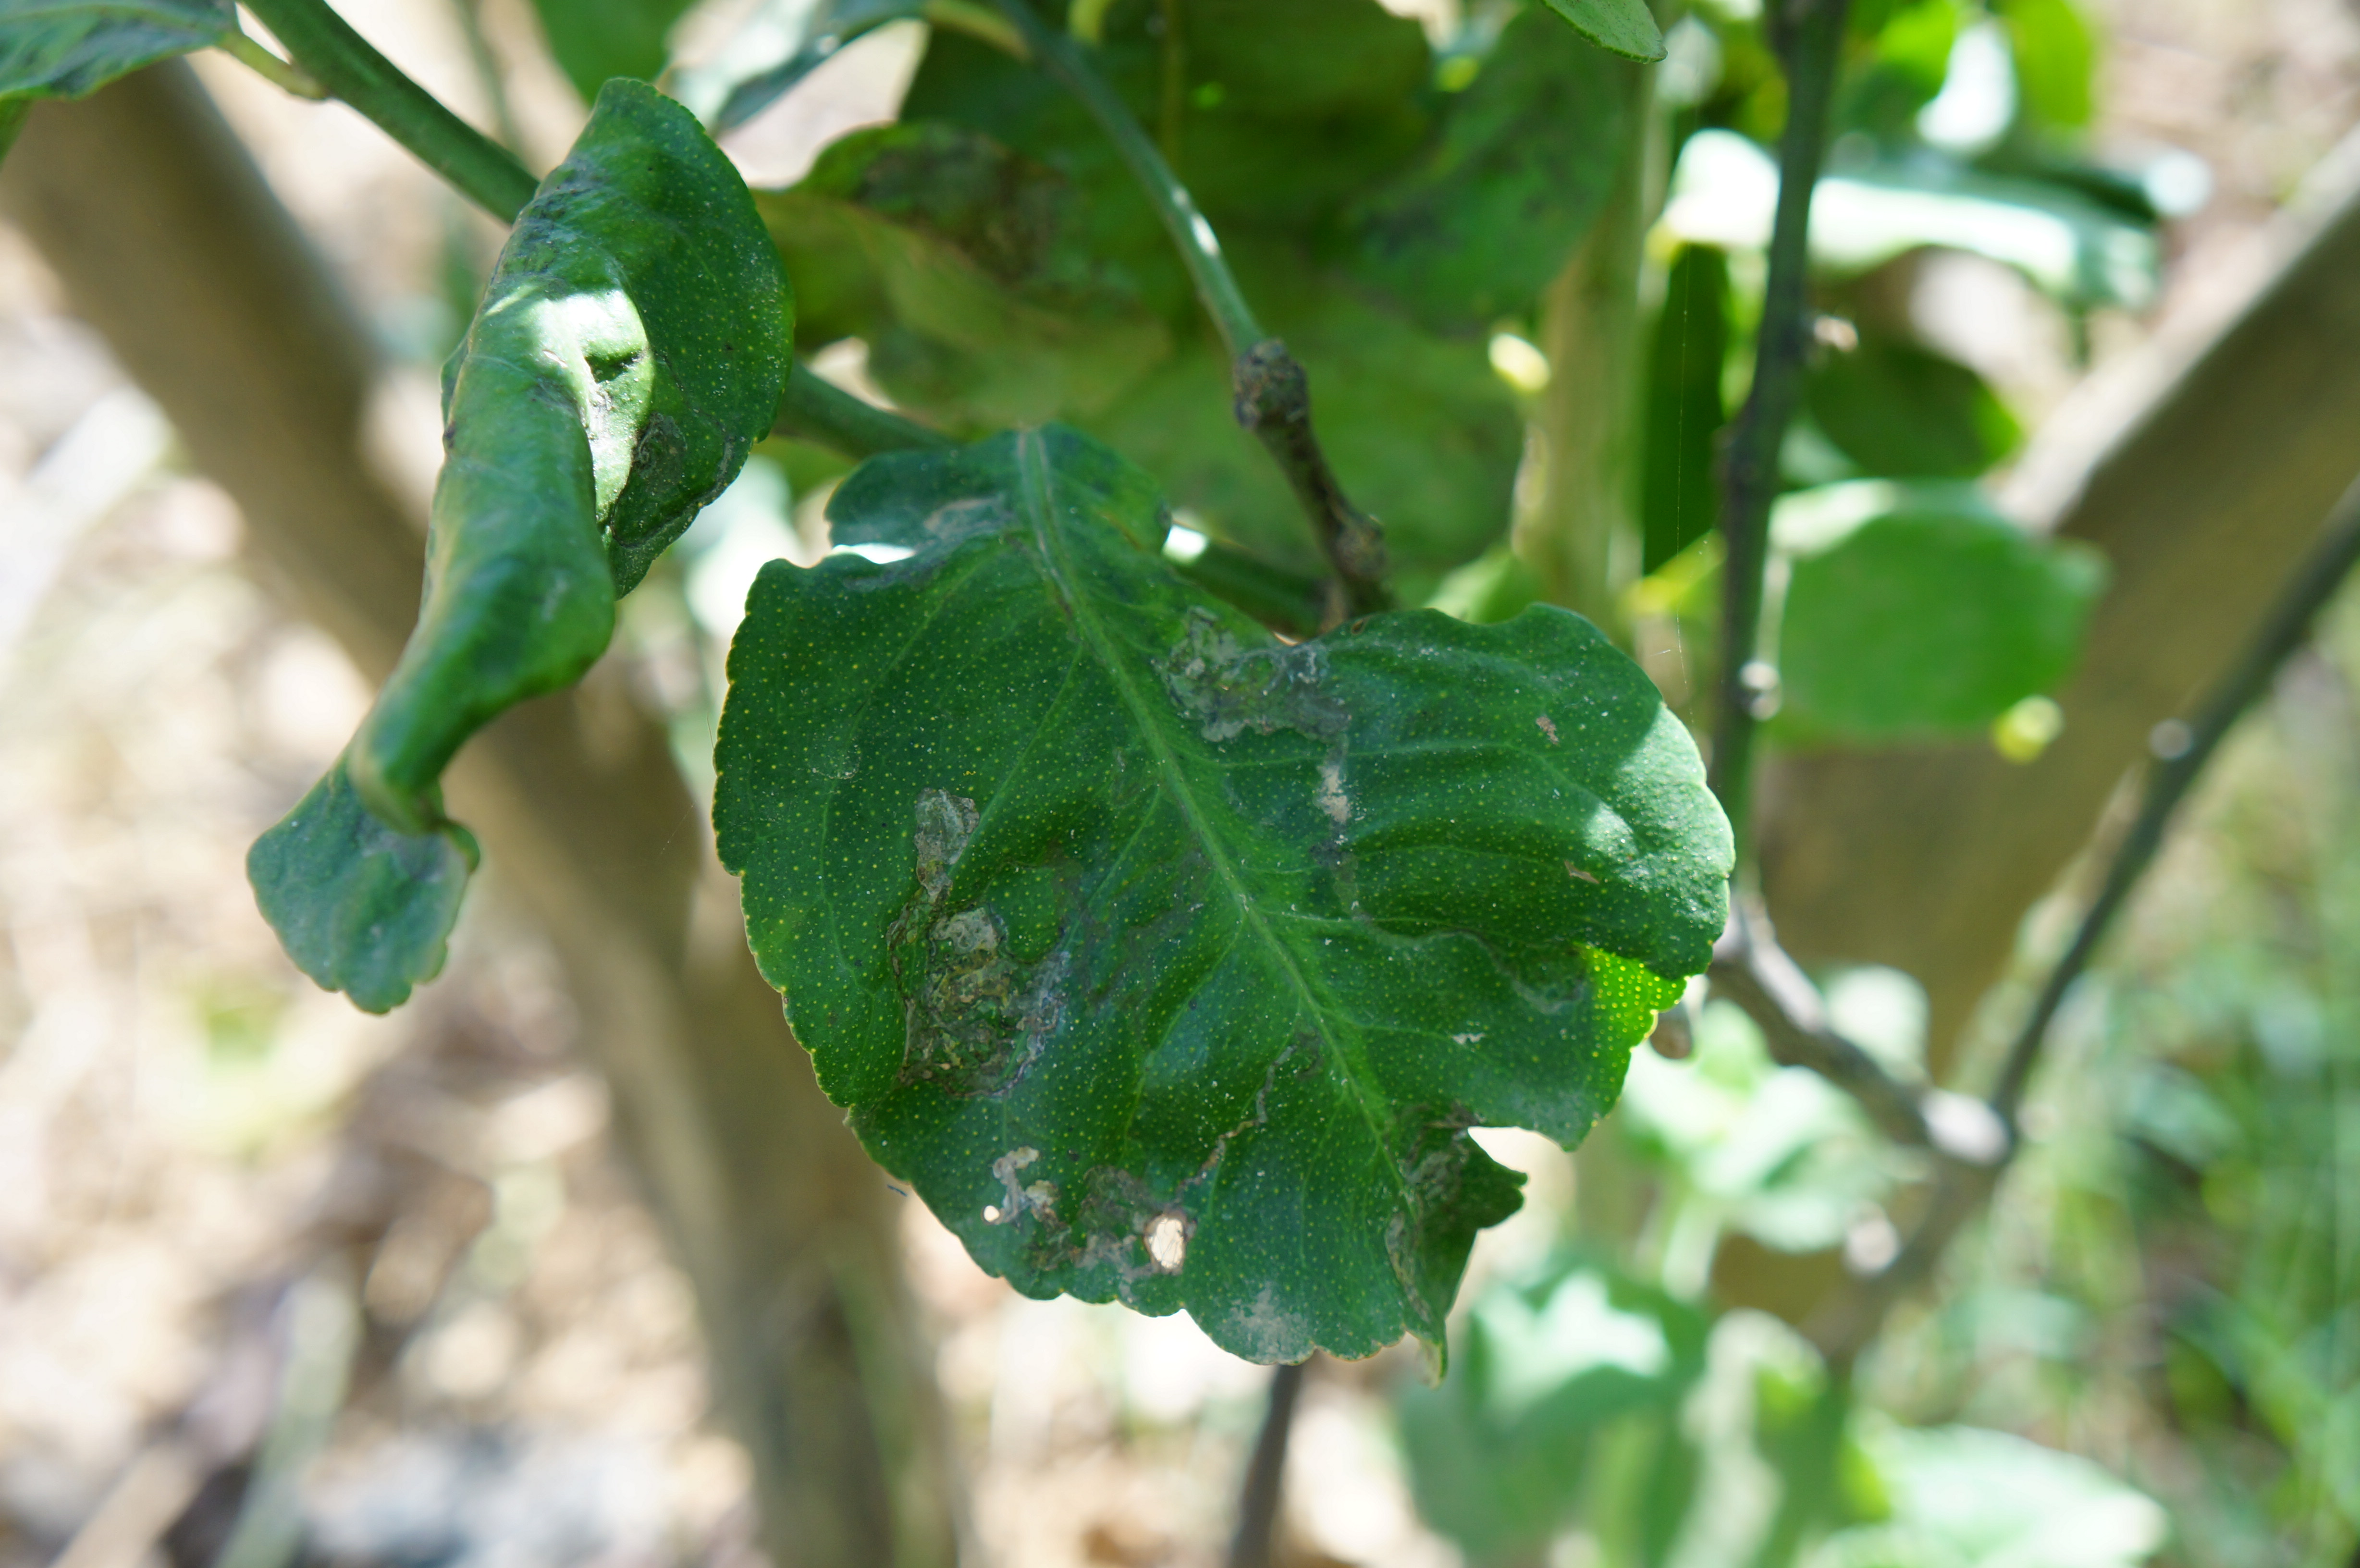curly: (217, 66, 808, 1062)
damage: (822, 749, 1205, 1307), (1142, 586, 1484, 929)
